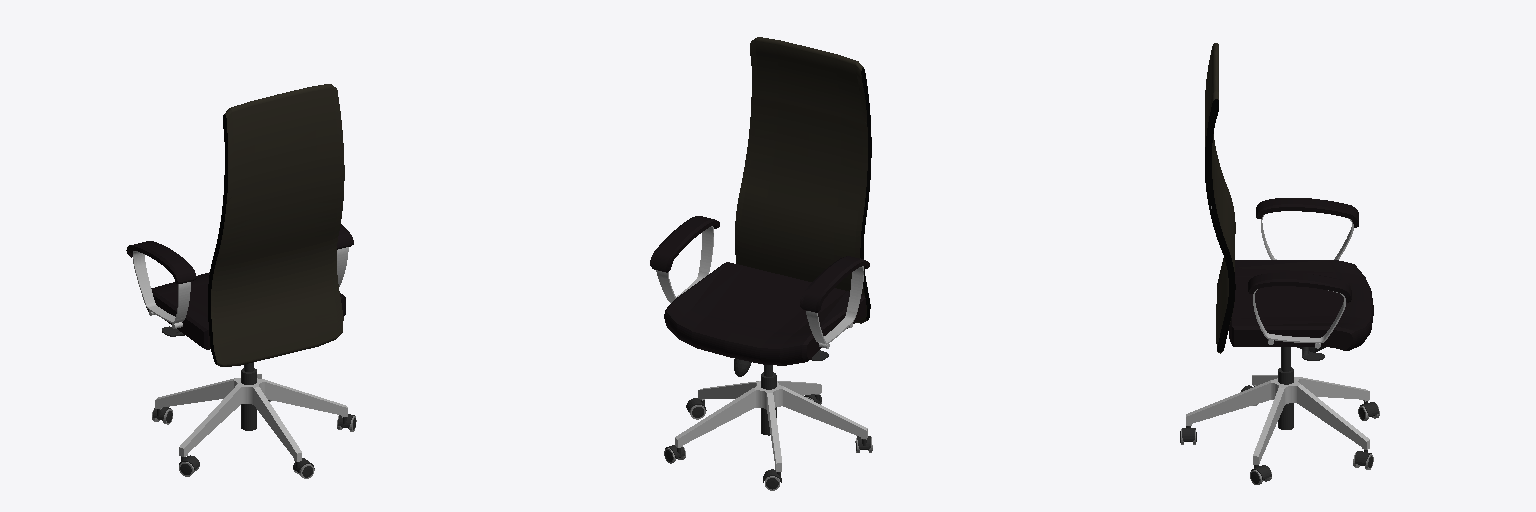
3 views of the same model, side by side, from view 1: azimuth 30°, elevation 25°; view 2: azimuth 150°, elevation 25°; view 3: azimuth 270°, elevation 25° (orthographic).
Parts seen in each view (by area): view 1: Mesh1 Group1 Model, Mesh3 Group3 Model, Mesh6 Group6 Model, Mesh12 Group10 Armrest2 Model, Mesh13 Group11 Armrest2 Model, Mesh2 Group2 Model; view 2: Mesh1 Group1 Model, Mesh6 Group6 Model, Mesh3 Group3 Model, Mesh9 Group9 Armrest1 Model, Mesh13 Group11 Armrest2 Model, Mesh12 Group10 Armrest2 Model, Mesh8 Group8 Armrest1 Model, Mesh2 Group2 Model; view 3: Mesh6 Group6 Model, Mesh3 Group3 Model, Mesh1 Group1 Model, Mesh9 Group9 Armrest1 Model, Mesh13 Group11 Armrest2 Model, Mesh2 Group2 Model, Mesh8 Group8 Armrest1 Model.
Part boxes in pixels (x1,y1,x2,y2): Mesh1 Group1 Model: (208,84,344,366); Mesh3 Group3 Model: (155,374,347,461); Mesh6 Group6 Model: (146,272,345,349); Mesh12 Group10 Armrest2 Model: (133,251,190,323); Mesh13 Group11 Armrest2 Model: (126,241,196,283); Mesh2 Group2 Model: (241,362,256,430); Mesh1 Group1 Model: (735,37,871,323); Mesh6 Group6 Model: (664,262,865,365); Mesh3 Group3 Model: (675,381,867,471); Mesh9 Group9 Armrest1 Model: (650,216,719,272); Mesh13 Group11 Armrest2 Model: (800,256,869,312); Mesh12 Group10 Armrest2 Model: (806,266,863,344); Mesh8 Group8 Armrest1 Model: (656,226,713,302); Mesh2 Group2 Model: (761,365,776,435); Mesh6 Group6 Model: (1229,260,1373,350); Mesh3 Group3 Model: (1186,375,1369,464); Mesh1 Group1 Model: (1205,43,1235,353); Mesh9 Group9 Armrest1 Model: (1248,272,1351,302); Mesh13 Group11 Armrest2 Model: (1256,198,1358,227); Mesh2 Group2 Model: (1278,347,1293,429); Mesh8 Group8 Armrest1 Model: (1253,289,1345,342).
Size of the model in its own units: 0.454 by 0.8933 by 0.4316.